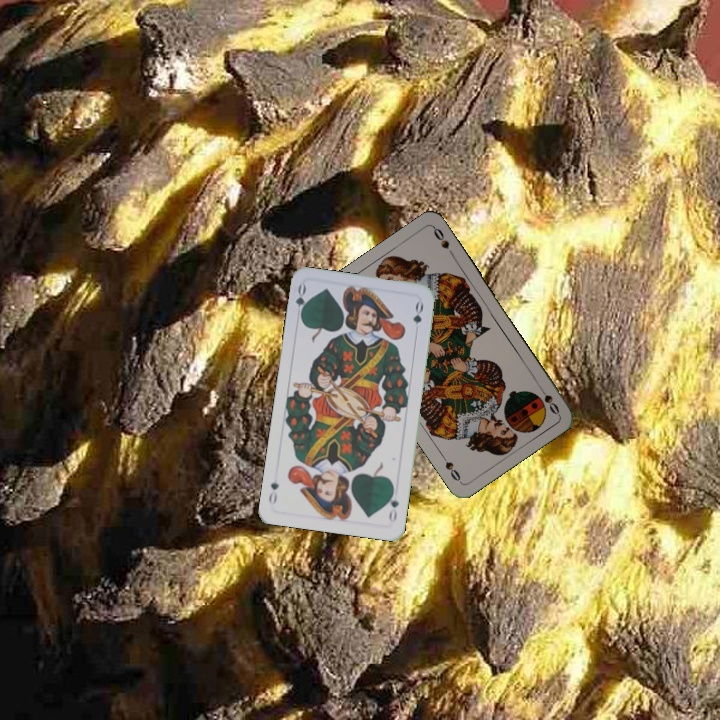GO: (292, 281, 311, 322), (384, 484, 401, 525)
SO: (534, 381, 562, 417)
